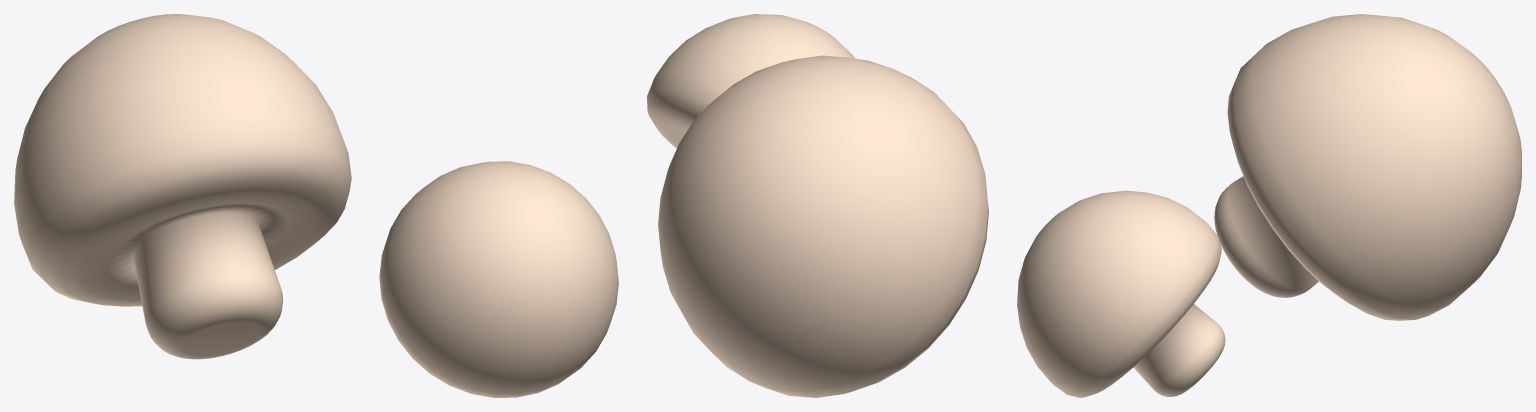
The model's file is Champiñones.fbx.
3 renders of one model, left to right at view 1: azimuth 30°, elevation 25°; view 2: azimuth 150°, elevation 25°; view 3: azimuth 270°, elevation 25°, orthographic. The views are drawn at different scales.
Visible parts, largest first — view 1: Champiñón 1, Champiñon 2; view 2: Champiñón 1, Champiñon 2; view 3: Champiñón 1, Champiñon 2.
Boxes of the visible parts, x1,y1,x2,y2 form: Champiñón 1: (14, 14, 351, 359); Champiñon 2: (379, 161, 618, 397); Champiñón 1: (658, 55, 988, 397); Champiñon 2: (647, 14, 854, 148); Champiñón 1: (1214, 14, 1521, 320); Champiñon 2: (1017, 190, 1225, 397).
Size of the model in its own units: 7.67 by 4.9 by 8.16.
